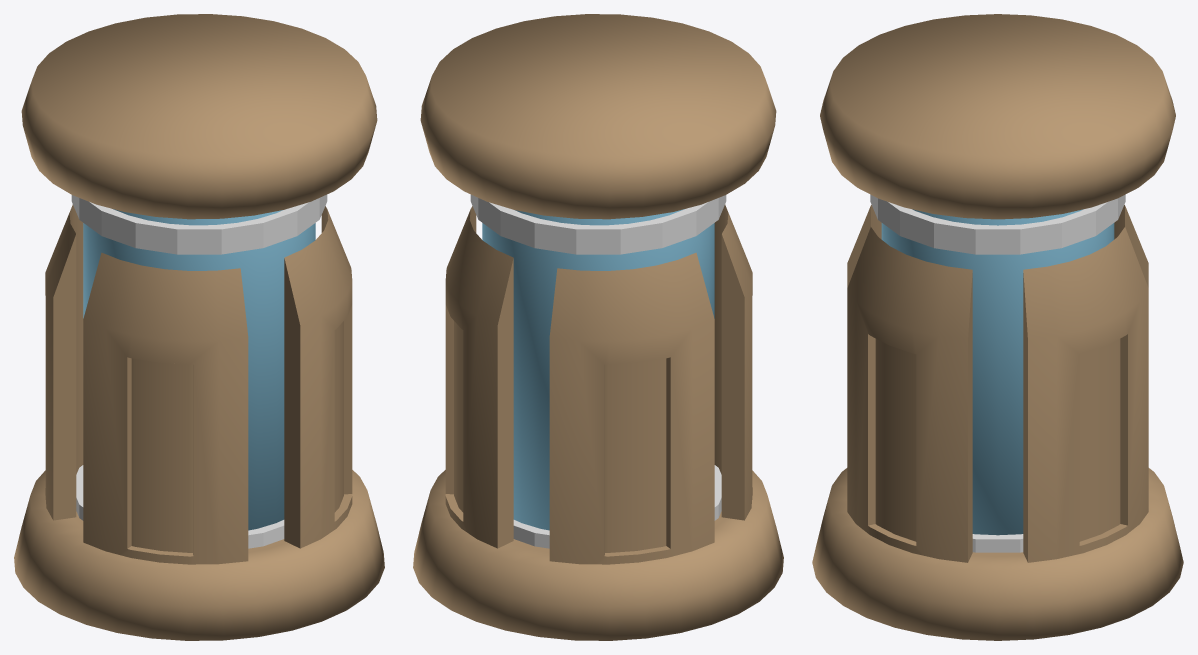
File: watertank2.fbx
The picture shows the model from 3 angles, left to right: view 1: azimuth 30°, elevation 25°; view 2: azimuth 150°, elevation 25°; view 3: azimuth 270°, elevation 25°; orthographic projection.
Parts seen in each view (by area): view 1: Circle, Sphere.002, Sphere.001, Cylinder, Cylinder.001; view 2: Circle, Sphere.002, Sphere.001, Cylinder, Cylinder.001; view 3: Circle, Sphere.002, Sphere.001, Cylinder, Cylinder.001.
Boxes of the visible parts, bbox=[...] form: Circle: bbox=[45, 204, 352, 564]; Sphere.002: bbox=[21, 14, 377, 219]; Sphere.001: bbox=[14, 470, 384, 640]; Cylinder: bbox=[83, 209, 315, 530]; Cylinder.001: bbox=[71, 194, 327, 548]; Circle: bbox=[445, 204, 752, 564]; Sphere.002: bbox=[420, 14, 776, 219]; Sphere.001: bbox=[413, 470, 783, 640]; Cylinder: bbox=[482, 209, 714, 530]; Cylinder.001: bbox=[470, 194, 726, 548]; Circle: bbox=[847, 205, 1148, 562]; Sphere.002: bbox=[820, 14, 1175, 219]; Sphere.001: bbox=[812, 468, 1183, 640]; Cylinder: bbox=[881, 209, 1114, 535]; Cylinder.001: bbox=[870, 194, 1125, 552].
Size of the model in its own units: 703 by 997 by 703.
